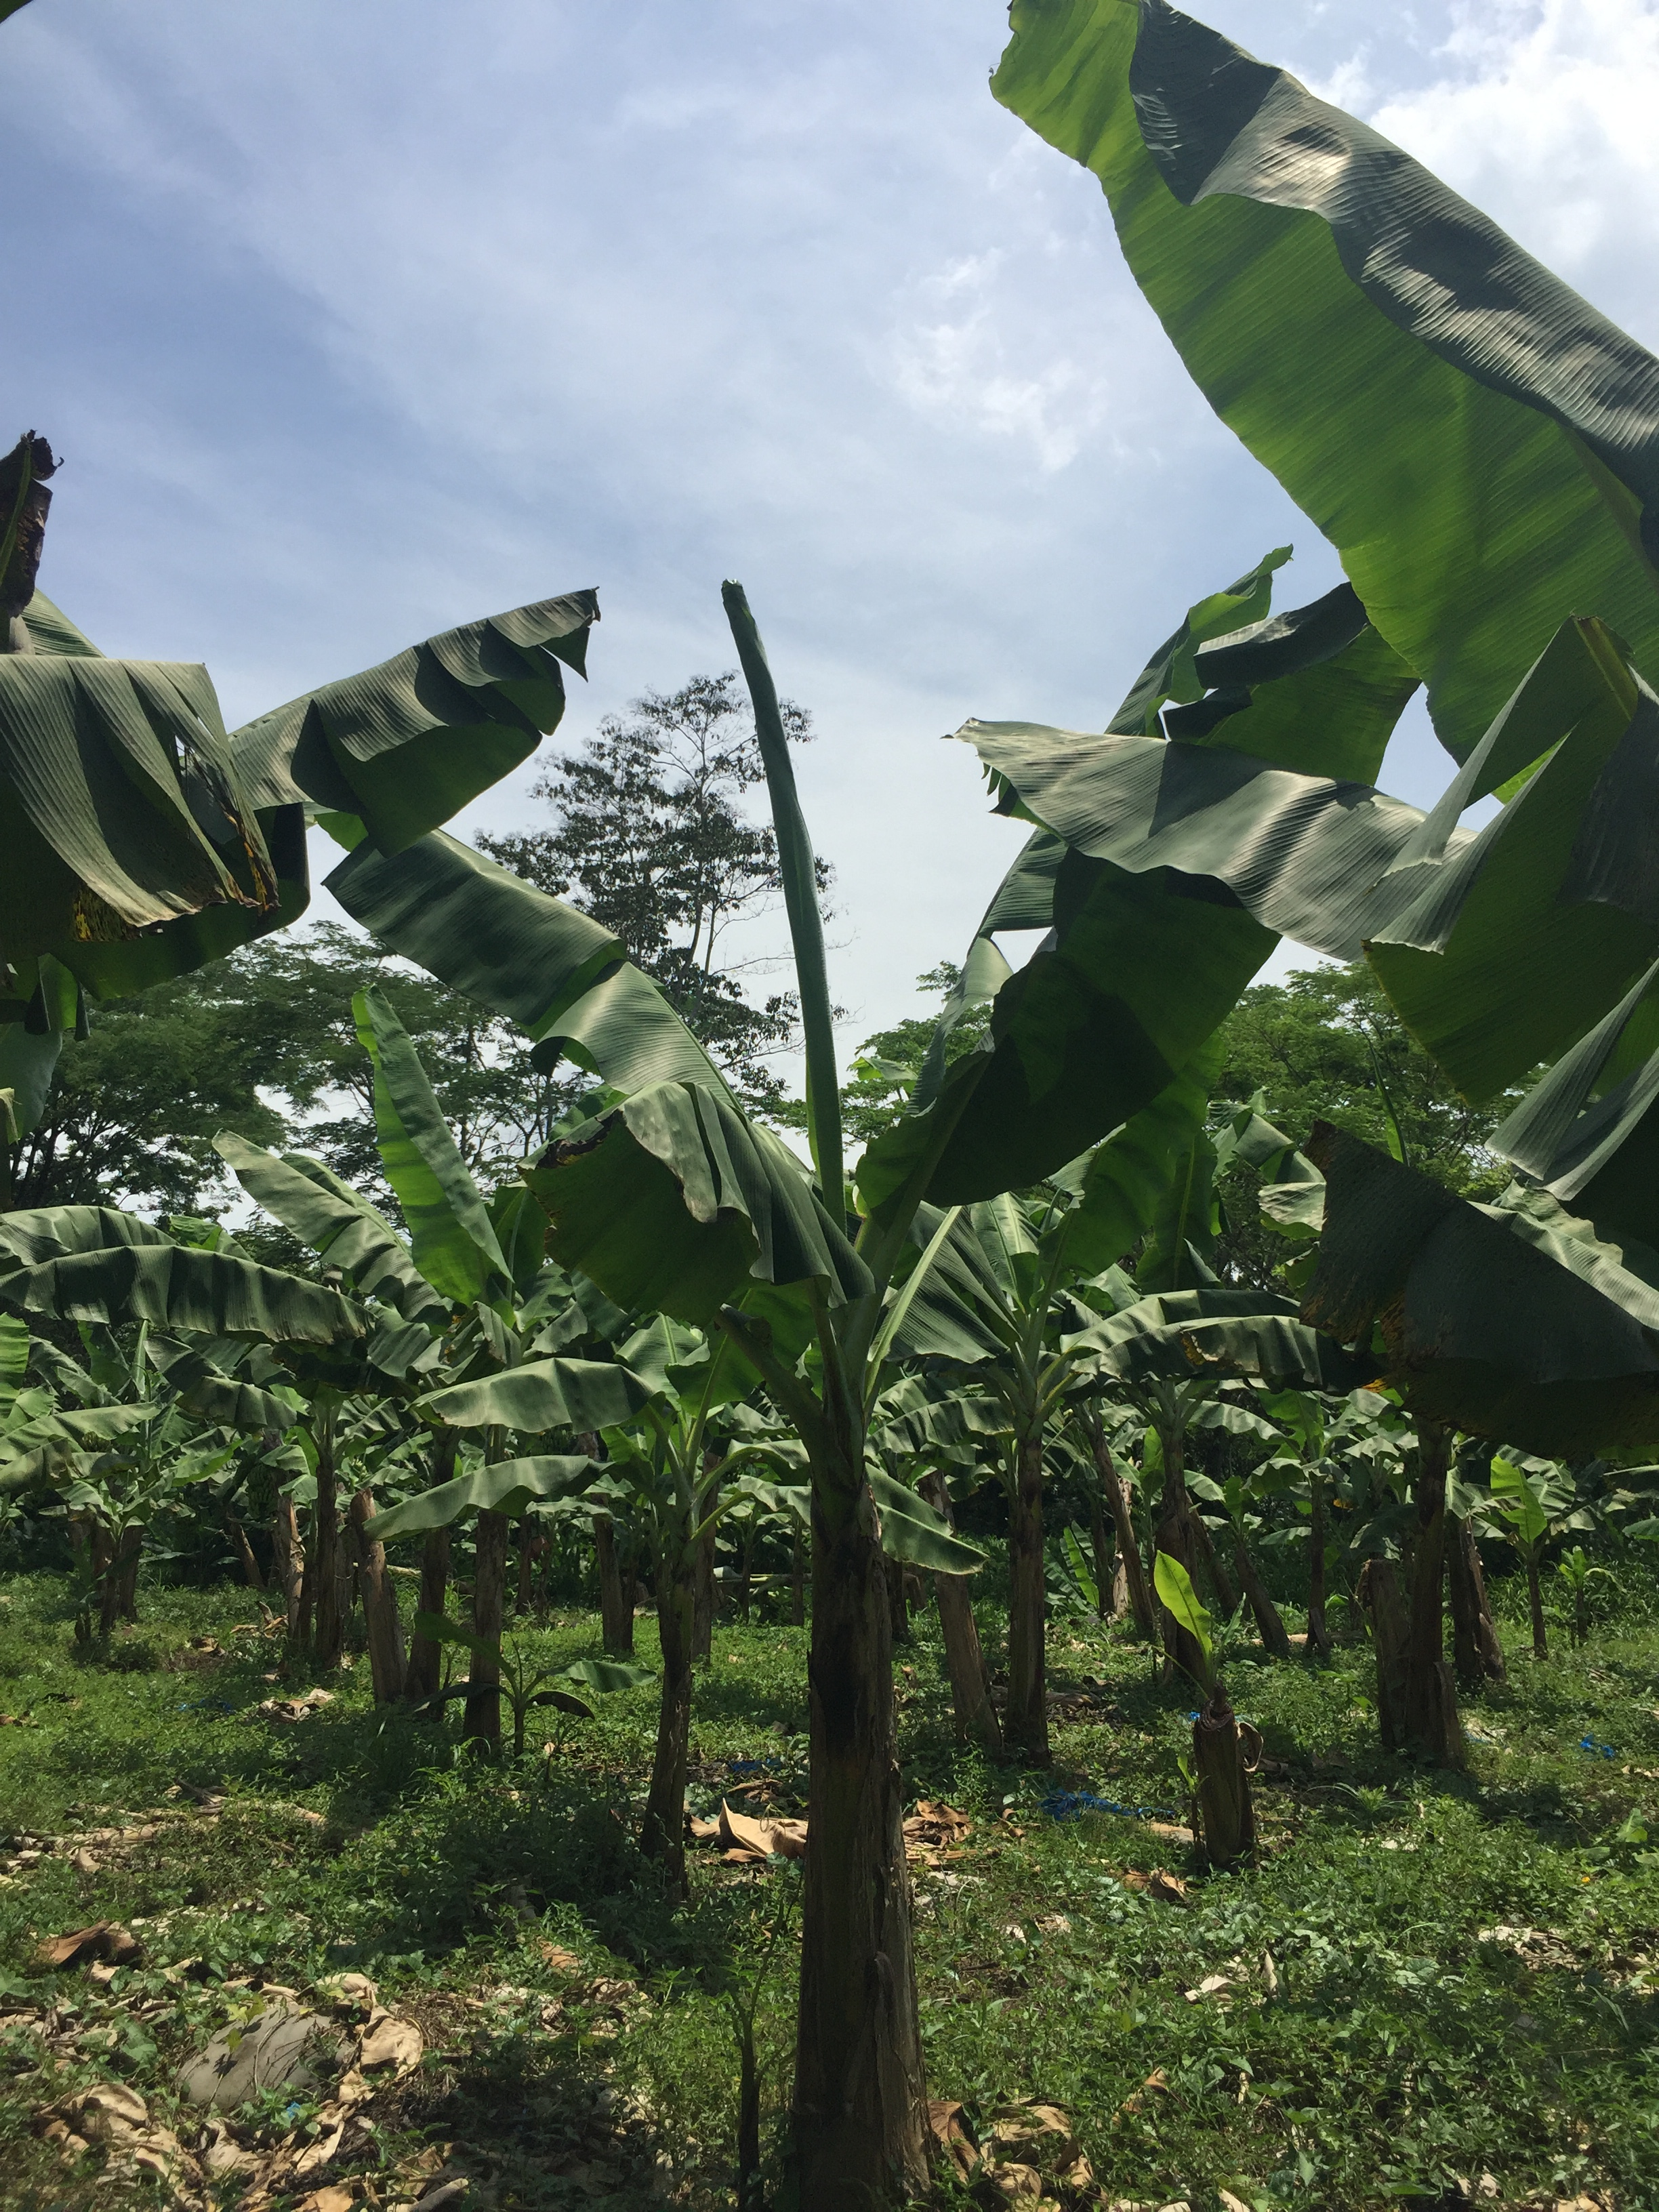candleleafs: (721, 577, 849, 1235), (507, 1186, 530, 1305)
